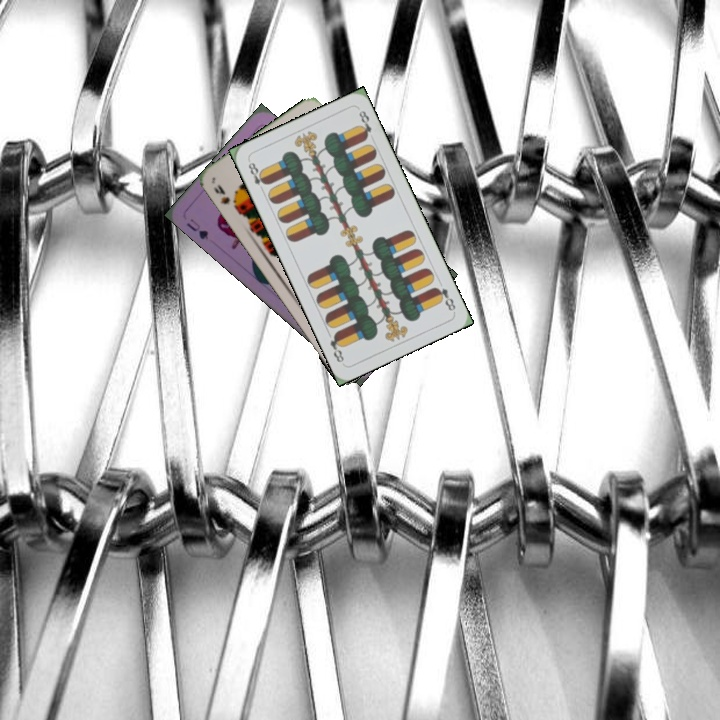E8: (244, 156, 270, 195), (430, 283, 458, 314)
GU: (182, 214, 211, 242)
S9: (210, 180, 241, 213)
